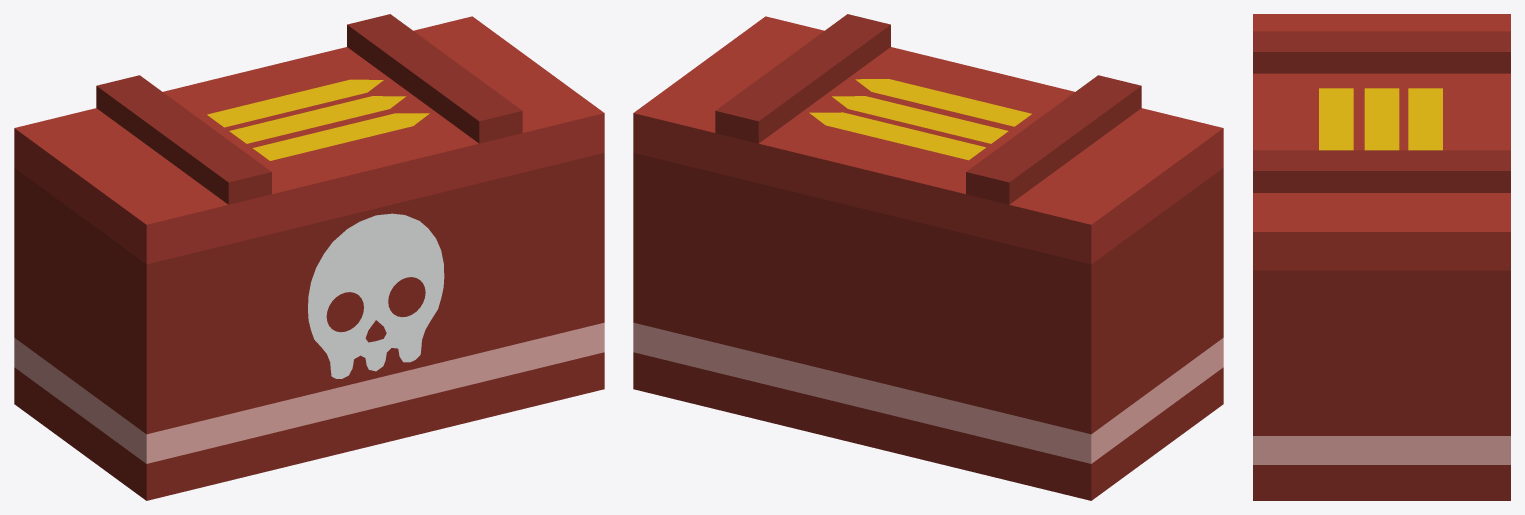
File: Ammo.Container.001.fbx
The picture shows the model from 3 angles, left to right: view 1: azimuth 30°, elevation 25°; view 2: azimuth 150°, elevation 25°; view 3: azimuth 270°, elevation 25°; orthographic projection. The views are drawn at different scales.
Parts seen in each view (by area): view 1: Ammo.Container.001; view 2: Ammo.Container.001; view 3: Ammo.Container.001.
Part boxes in pixels (bbox=[...]): Ammo.Container.001: bbox=[14, 14, 604, 500]; Ammo.Container.001: bbox=[633, 14, 1223, 500]; Ammo.Container.001: bbox=[1253, 14, 1510, 500].
Bounding box in the file's own units: 1.8 × 1.12 × 0.9029.
